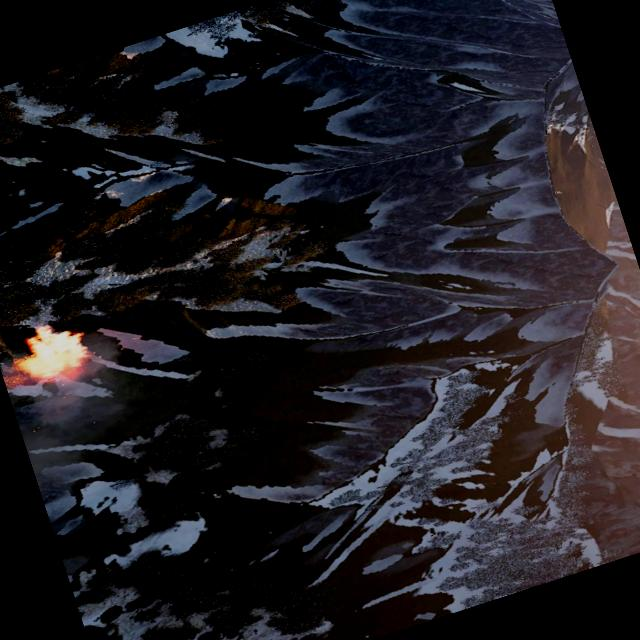fire: (8, 314, 94, 390)
smoke: (0, 326, 164, 506)
